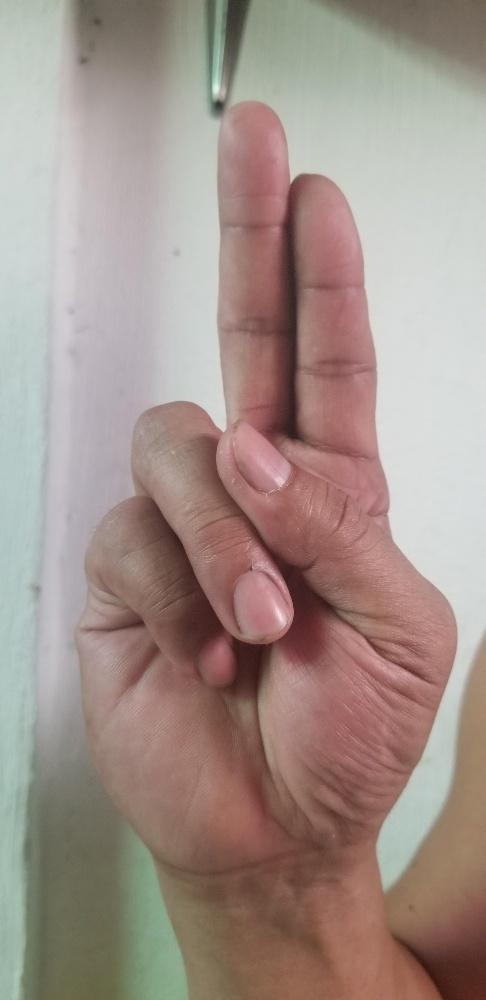u: (75, 97, 457, 857)
